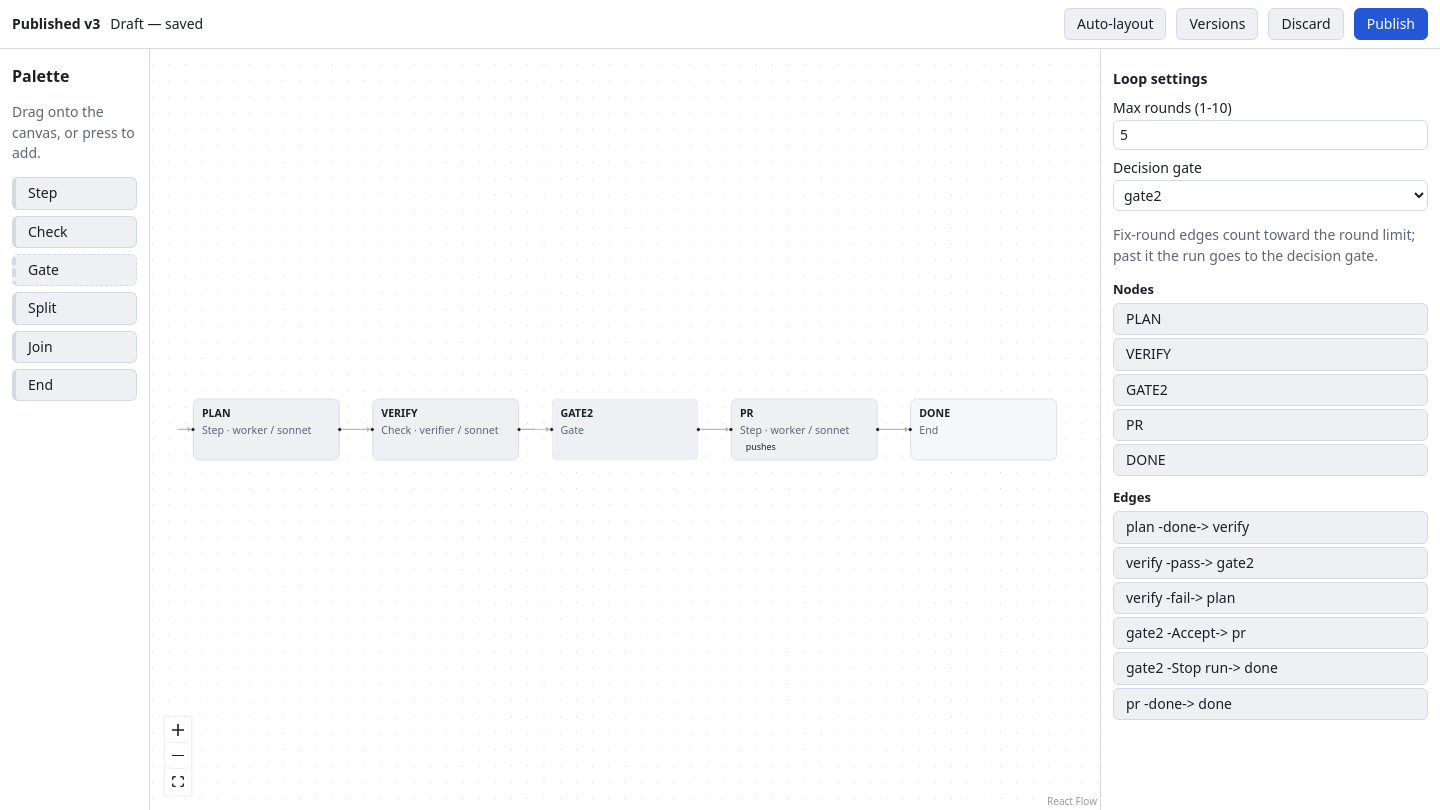
Test: WorkflowEditor › shows the palette items and adds a node when one is pressed
The width and height of the screenshot is (1440, 810).
Expected: the text "Published v3" is shown, [12,14,100,34]
Click the button "Gate".
click(74, 270)  # box [12,254,137,286]
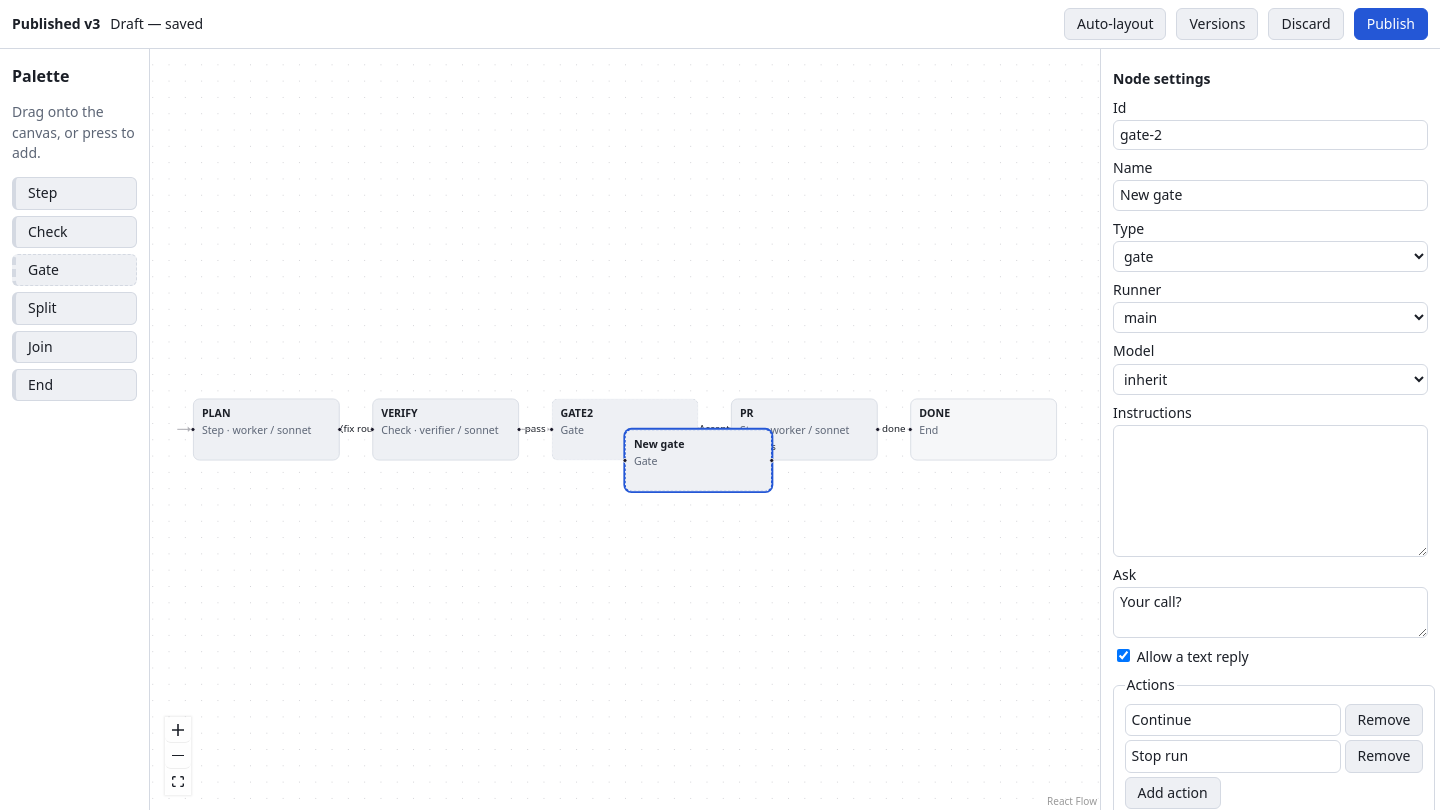
Expected: the text box labelled "Ask" is shown, [1113,587,1428,638]
